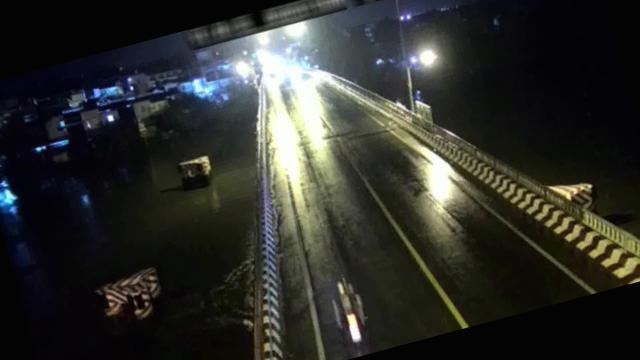Bike: (326, 274, 372, 348)
